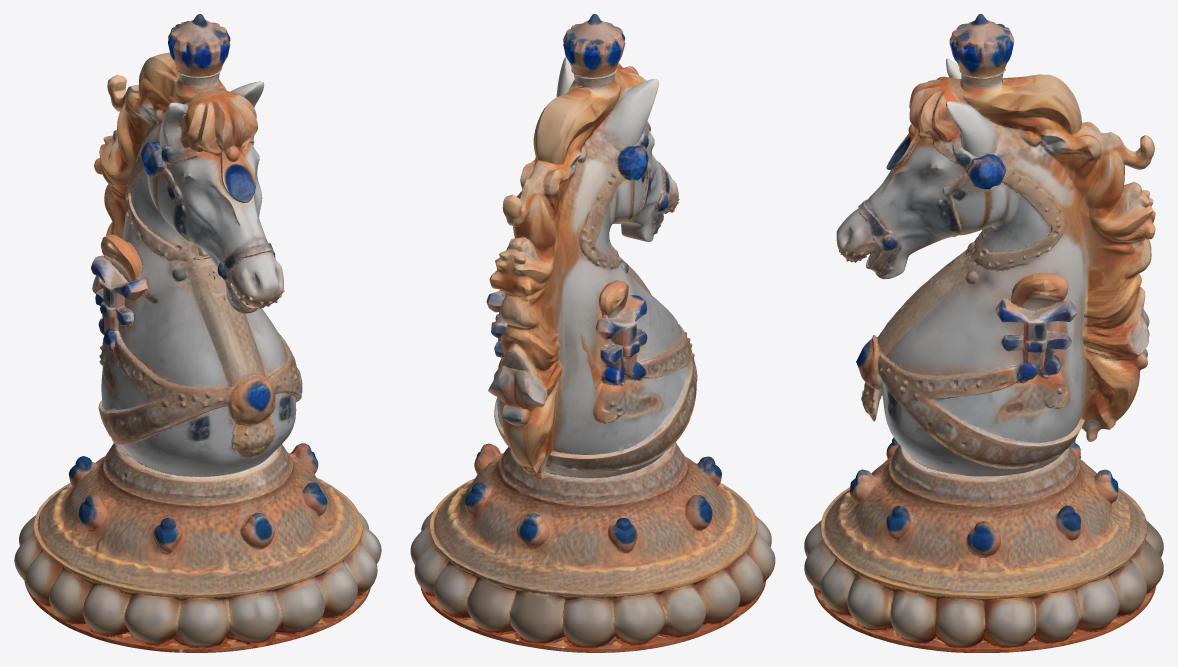
The model's file is knight_white.glb.
3 renders of one model, left to right at view 1: azimuth 30°, elevation 25°; view 2: azimuth 150°, elevation 25°; view 3: azimuth 270°, elevation 25°, orthographic.
Parts seen in each view (by area): view 1: model; view 2: model; view 3: model.
Boxes of the visible parts, x1,y1,x2,y2 form: model: [14, 14, 381, 652]; model: [410, 14, 775, 652]; model: [804, 14, 1163, 652].
Size of the model in its own units: 1.09 by 1.9 by 1.08.
Materials: 1 (1 with a texture image).
